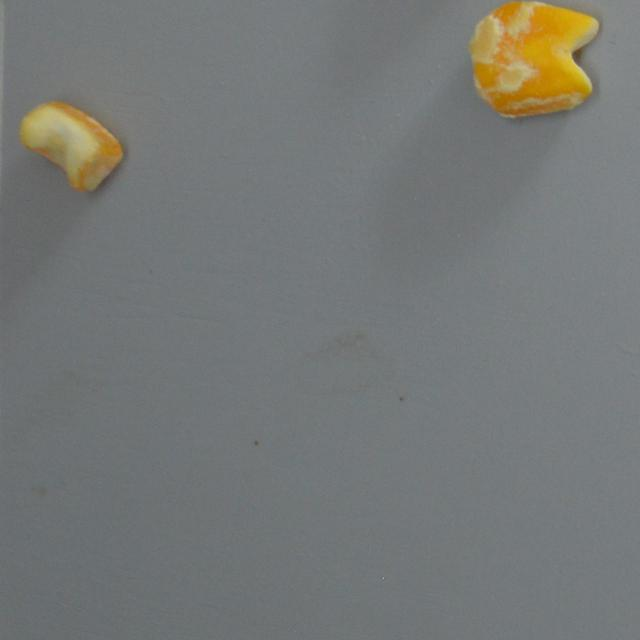pelicula: (468, 0, 598, 116), (20, 100, 123, 191)
